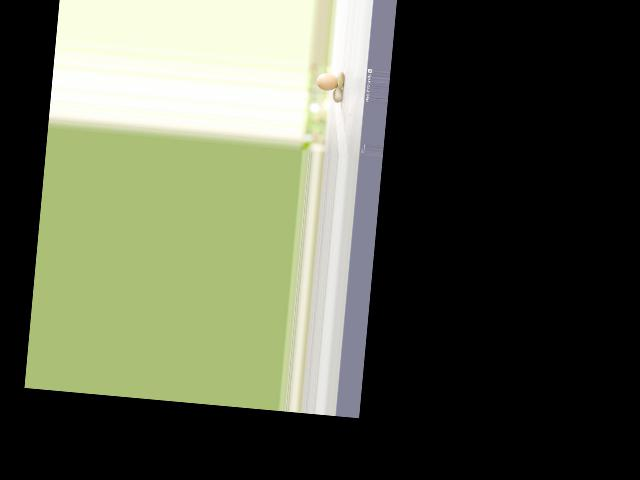egg: (316, 72, 338, 92)
